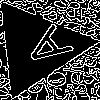A: (12, 22, 74, 77)
